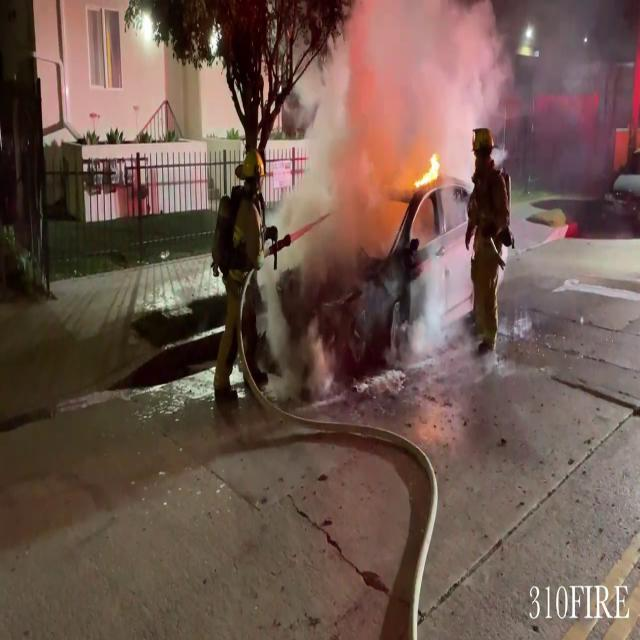Fire: (409, 147, 444, 200)
Smoke: (283, 0, 508, 301)
